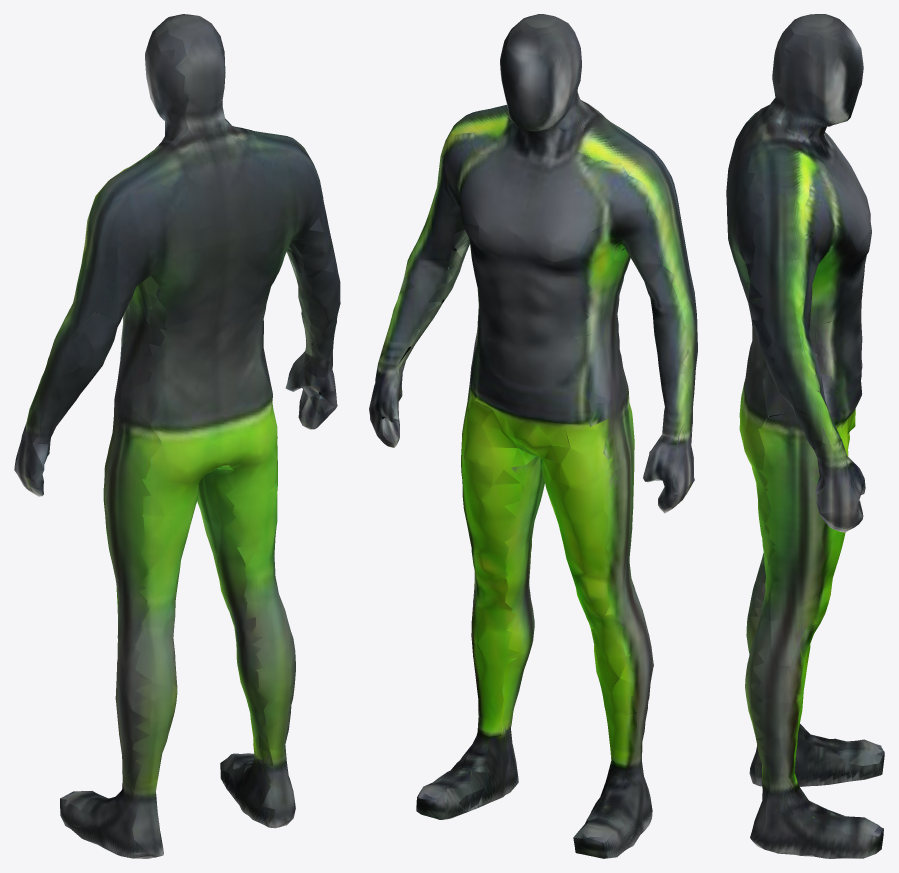
3 renders of one model, left to right at view 1: azimuth 30°, elevation 25°; view 2: azimuth 150°, elevation 25°; view 3: azimuth 270°, elevation 25°, orthographic.
Visible parts, largest first — view 1: world; view 2: world; view 3: world.
Boxes of the visible parts, x1=… form: world: x1=14, y1=14, x2=340, y2=858; world: x1=369, y1=14, x2=697, y2=858; world: x1=726, y1=14, x2=884, y2=858.
Size of the model in its own units: 0.3848 by 0.9493 by 0.1708.
Materials: 1 (1 with a texture image).
